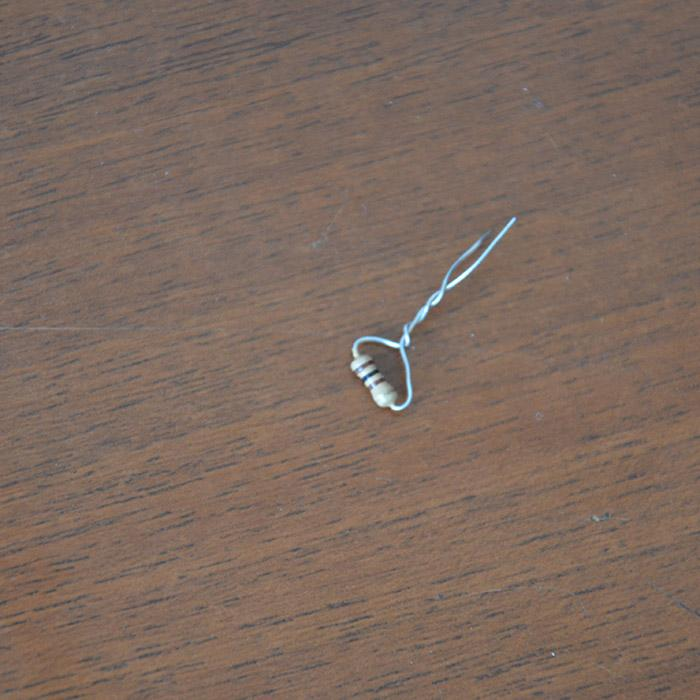resistor: (350, 350, 400, 407)
